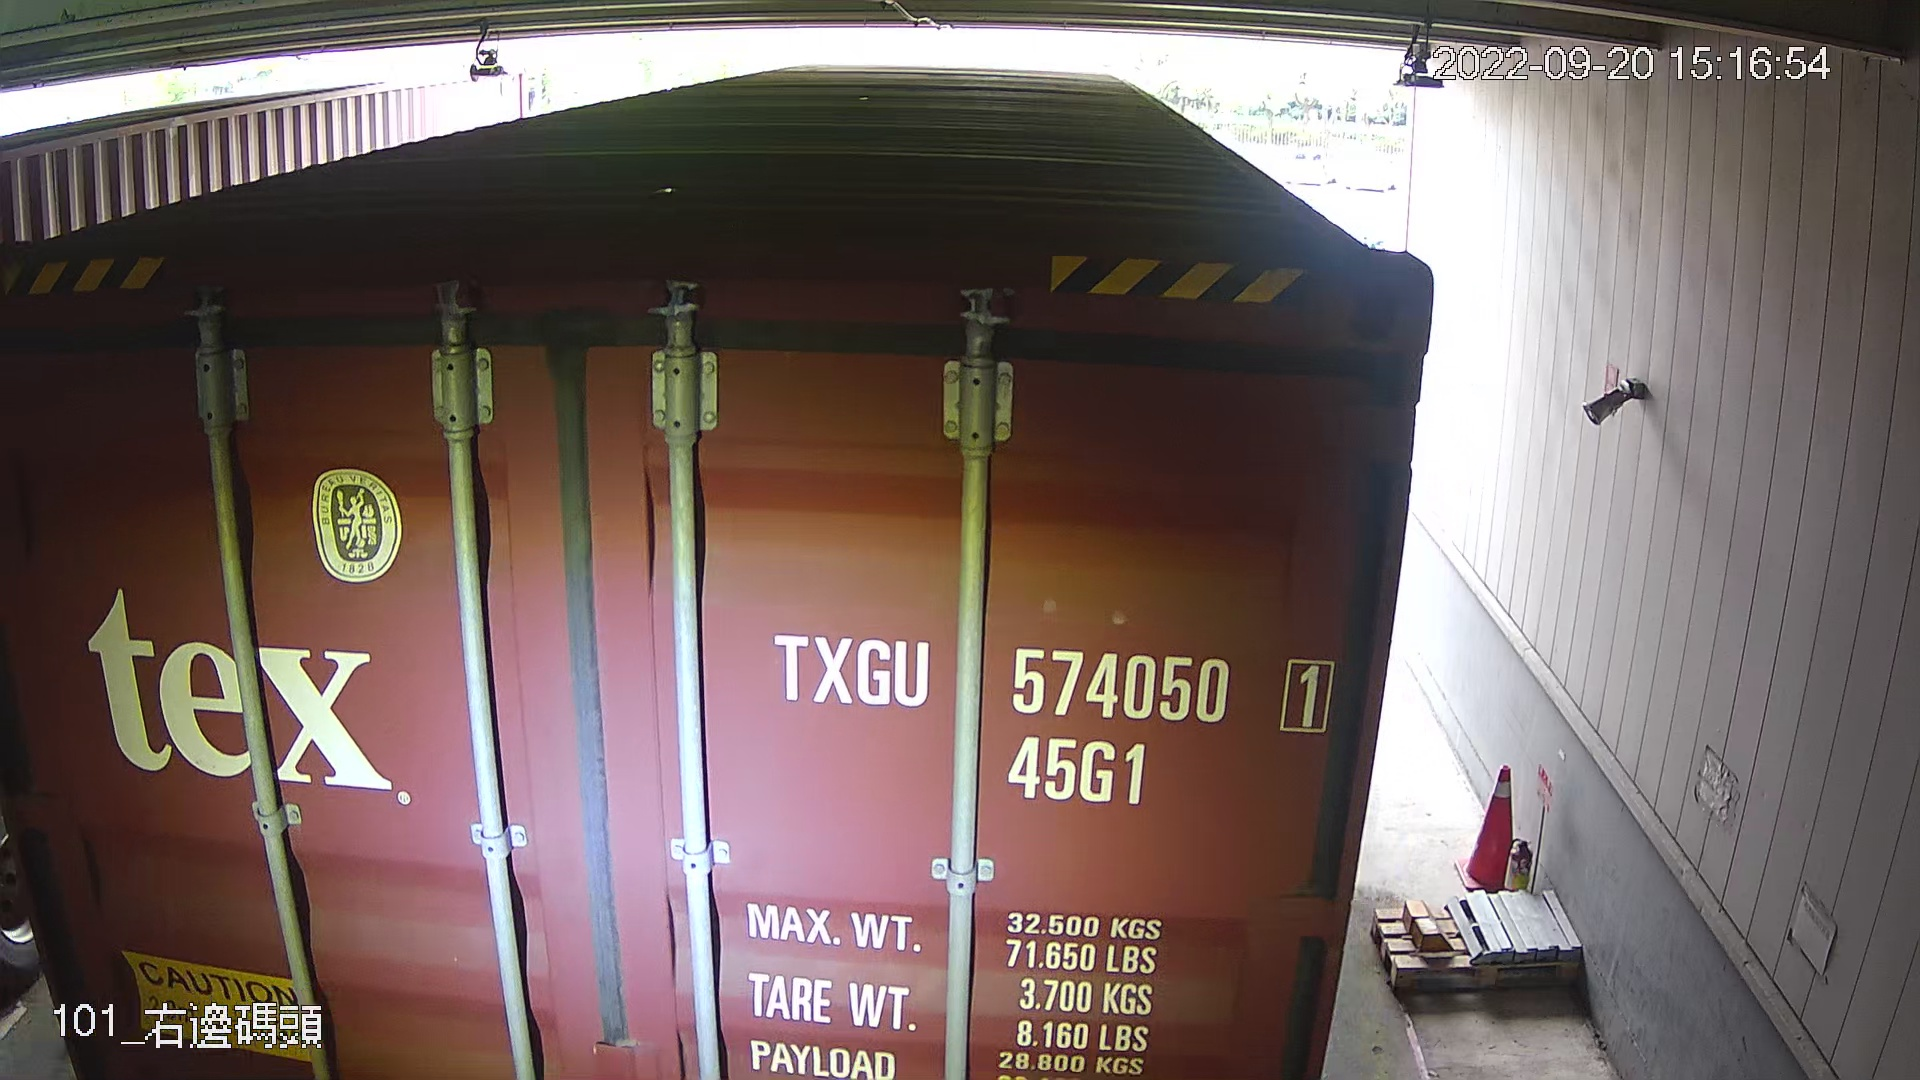container: (760, 613, 1346, 819)
